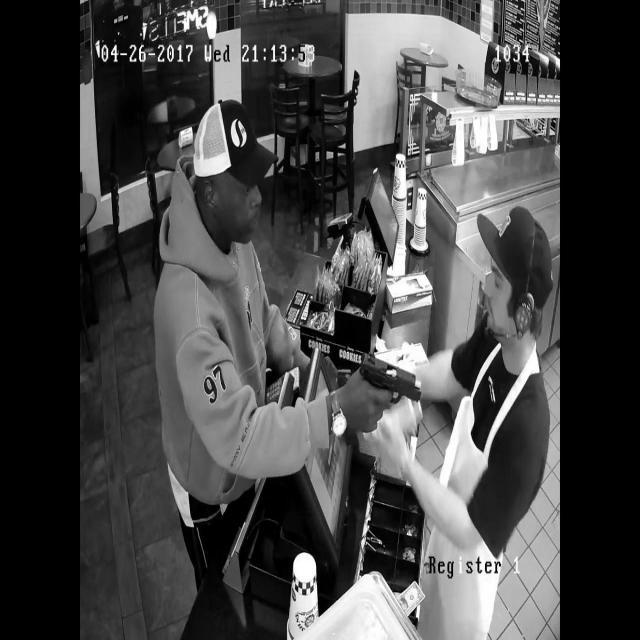Gun: (346, 326, 430, 414)
